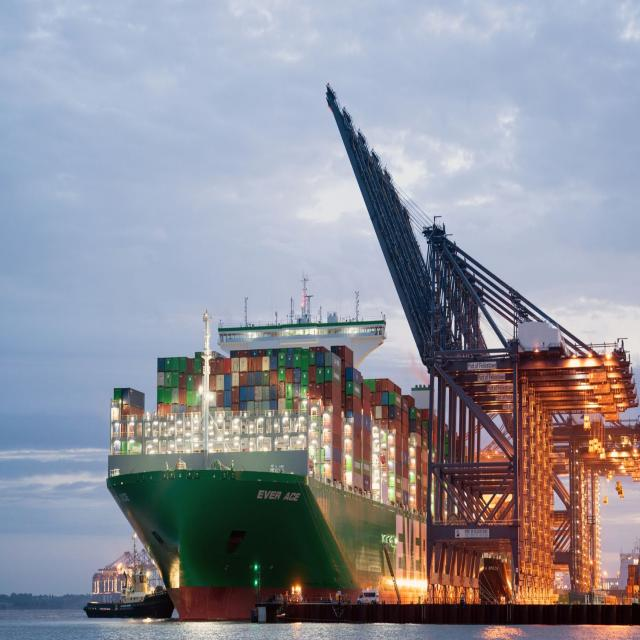boat: (93, 267, 490, 640)
